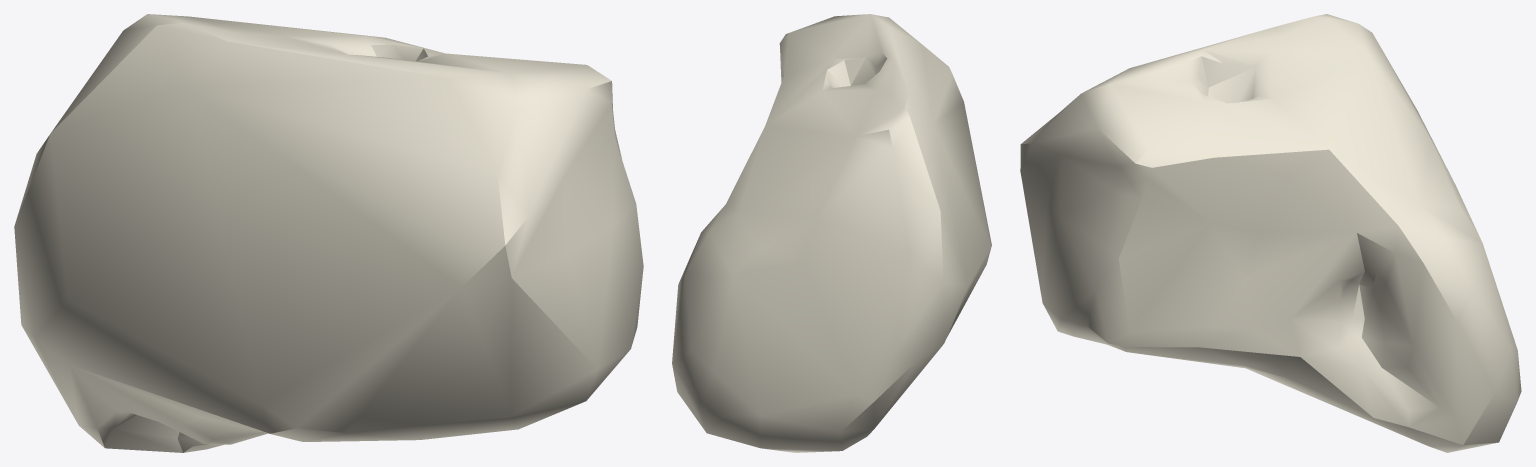
The model's file is fma23725_fj1245.glb.
3 renders of one model, left to right at view 1: azimuth 30°, elevation 25°; view 2: azimuth 150°, elevation 25°; view 3: azimuth 270°, elevation 25°, orthographic. The views are drawn at different scales.
Visible parts, largest first — view 1: FMA23725_FJ1245; view 2: FMA23725_FJ1245; view 3: FMA23725_FJ1245.
Part boxes in pixels (bbox=[...]): FMA23725_FJ1245: bbox=[14, 14, 643, 452]; FMA23725_FJ1245: bbox=[672, 14, 991, 452]; FMA23725_FJ1245: bbox=[1020, 14, 1521, 452].
Bounding box in the file's own units: 0.0111 × 0.0124 × 0.0149.
